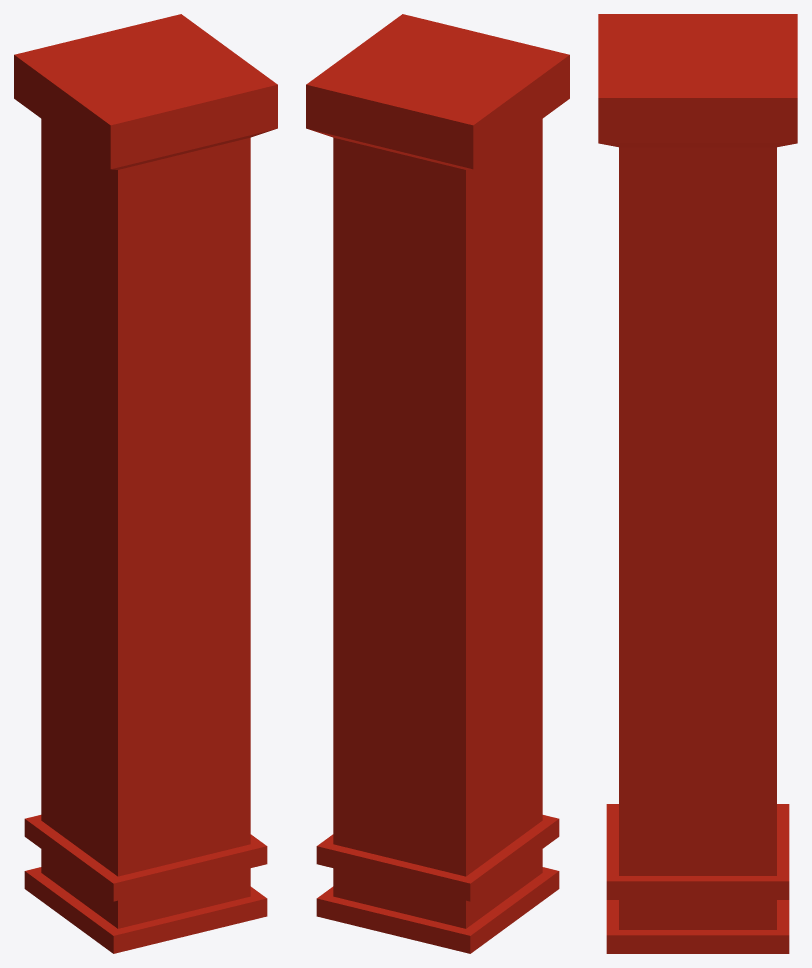
Rendered from filar_LP.FBX.
The picture shows the model from 3 angles, left to right: view 1: azimuth 30°, elevation 25°; view 2: azimuth 150°, elevation 25°; view 3: azimuth 270°, elevation 25°; orthographic projection. The views are drawn at different scales.
Parts seen in each view (by area): view 1: pillar_LP; view 2: pillar_LP; view 3: pillar_LP.
Boxes of the visible parts, <box> form: pillar_LP: <box>14,14,277,953</box>; pillar_LP: <box>306,14,569,953</box>; pillar_LP: <box>598,14,797,953</box>.
Bounding box in the file's own units: 63 × 300 × 63.
